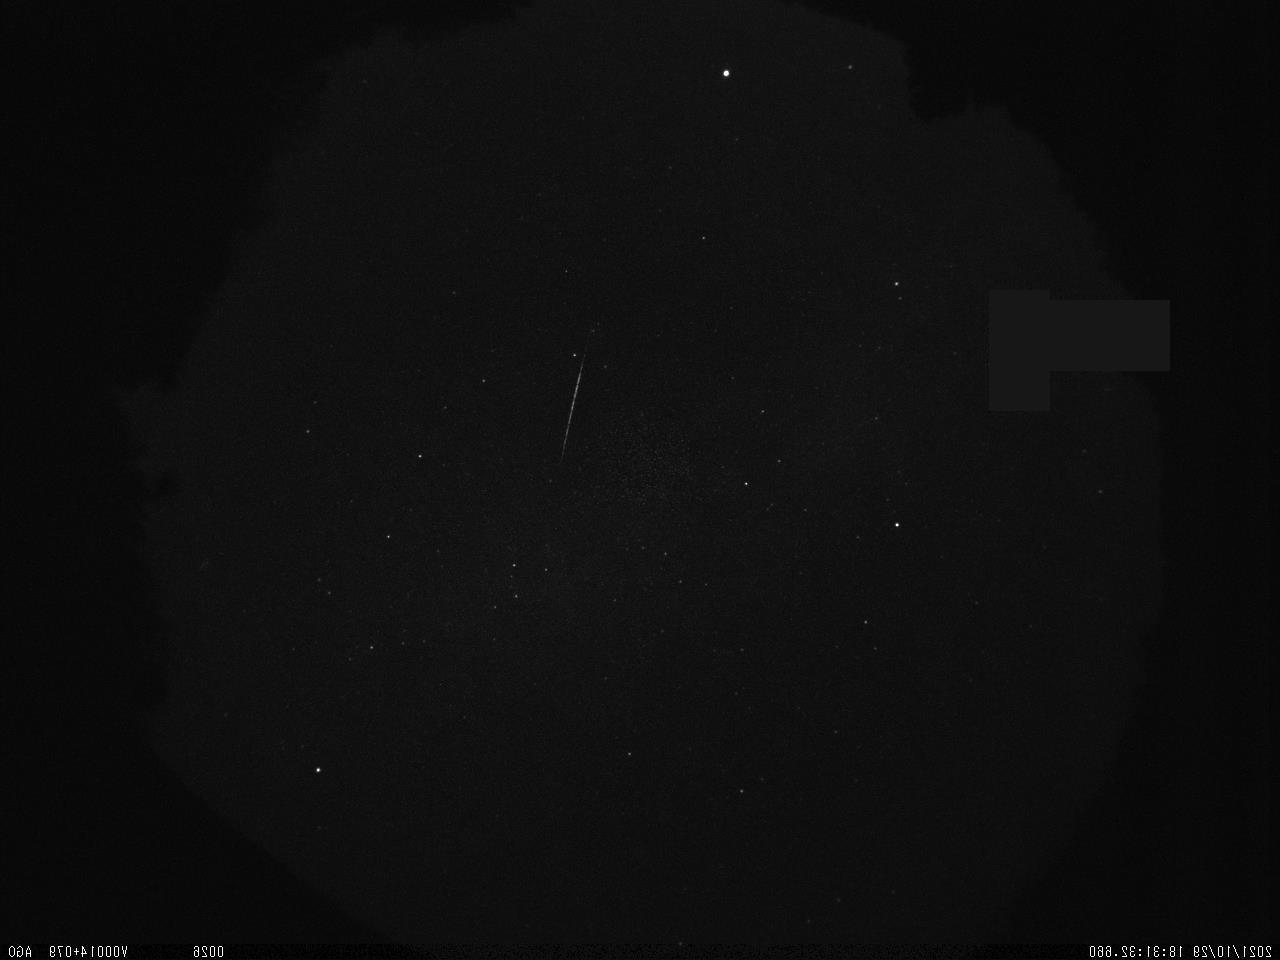meteor: (535, 339, 617, 471)
